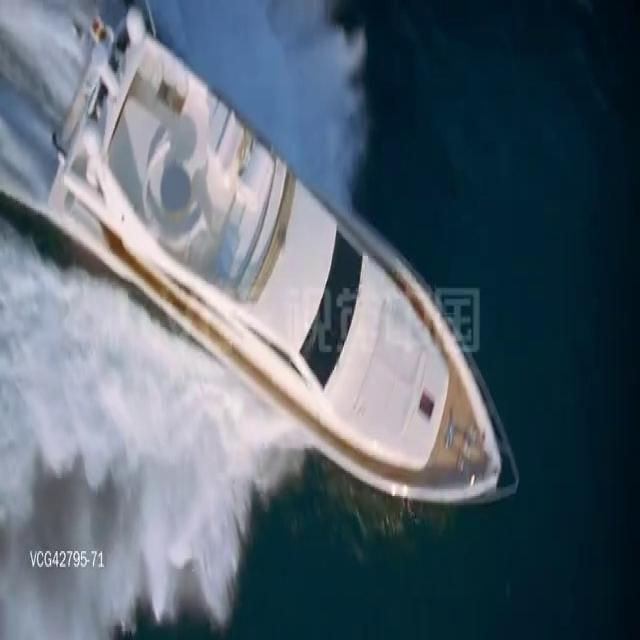houseboat: (39, 6, 523, 500)
